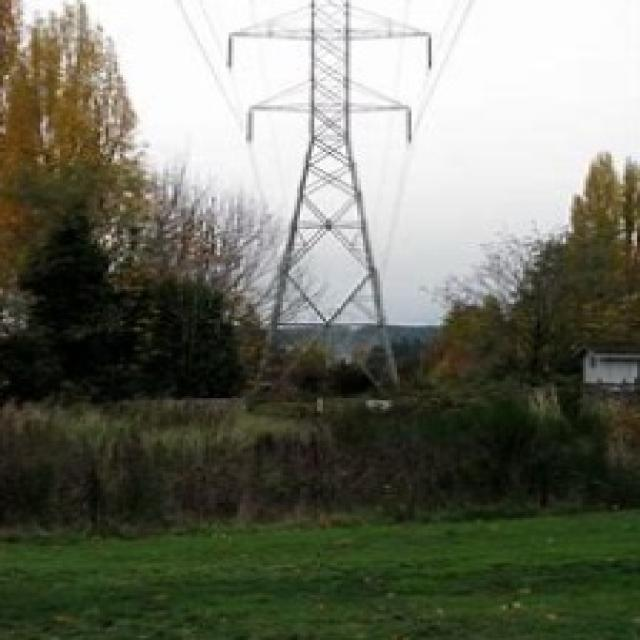utility poles: (182, 210, 324, 391), (341, 278, 522, 414)
